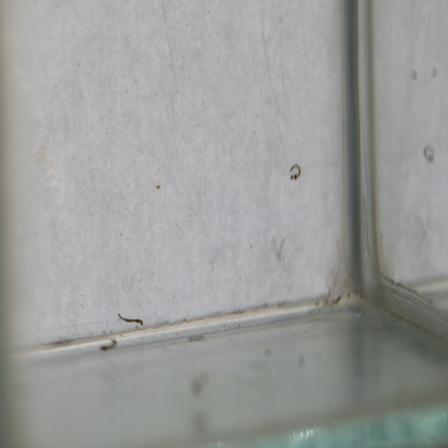Jentik-Nyamuk: (113, 308, 146, 328), (284, 161, 302, 184)
